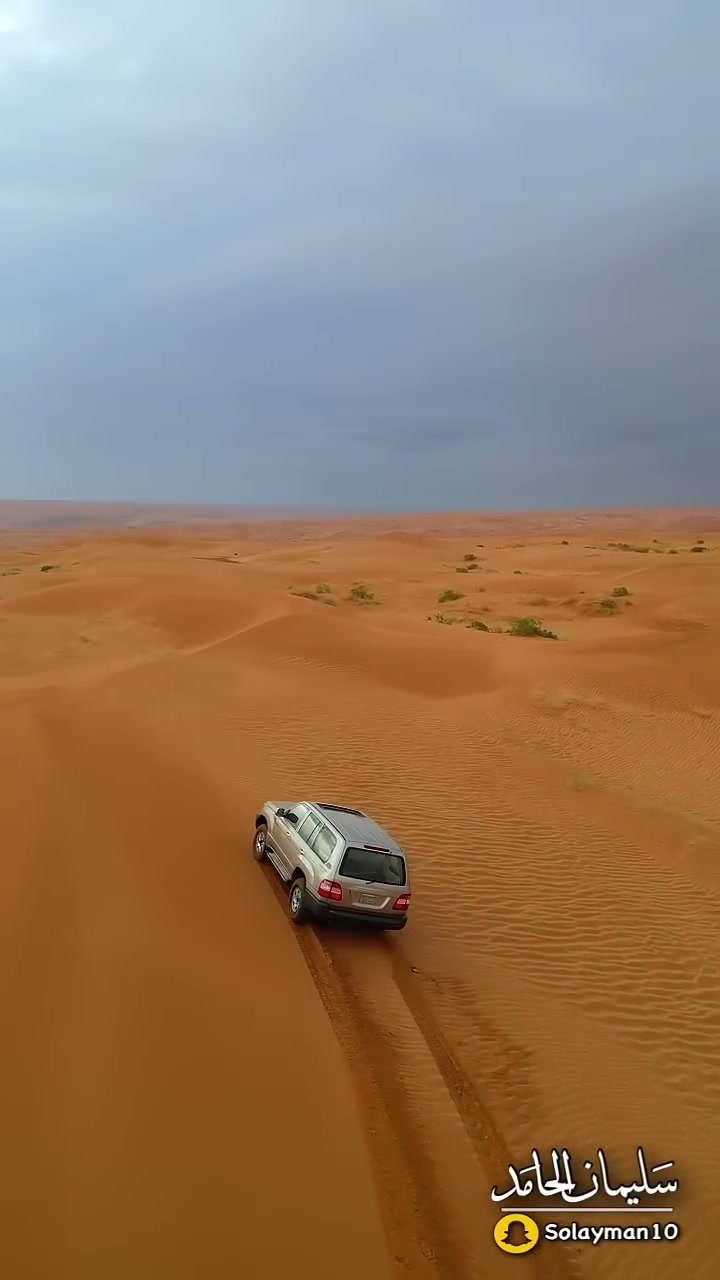vehicle_track: (297, 926, 516, 1279)
